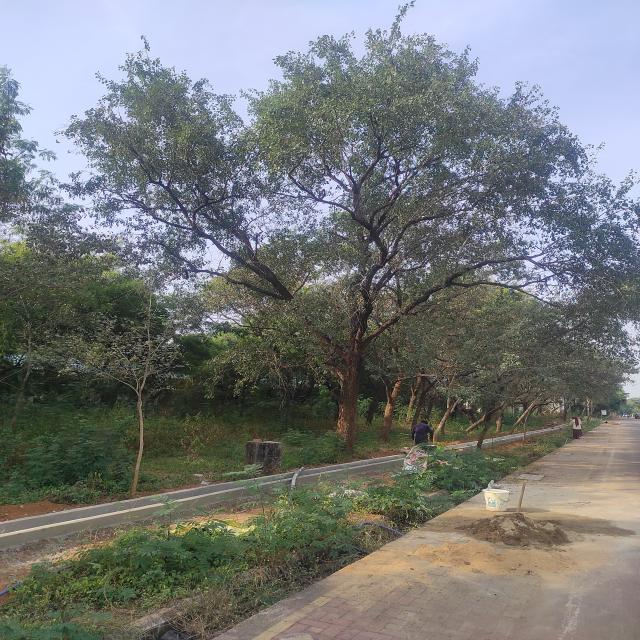Devakanchan tree: (94, 57, 583, 382)
